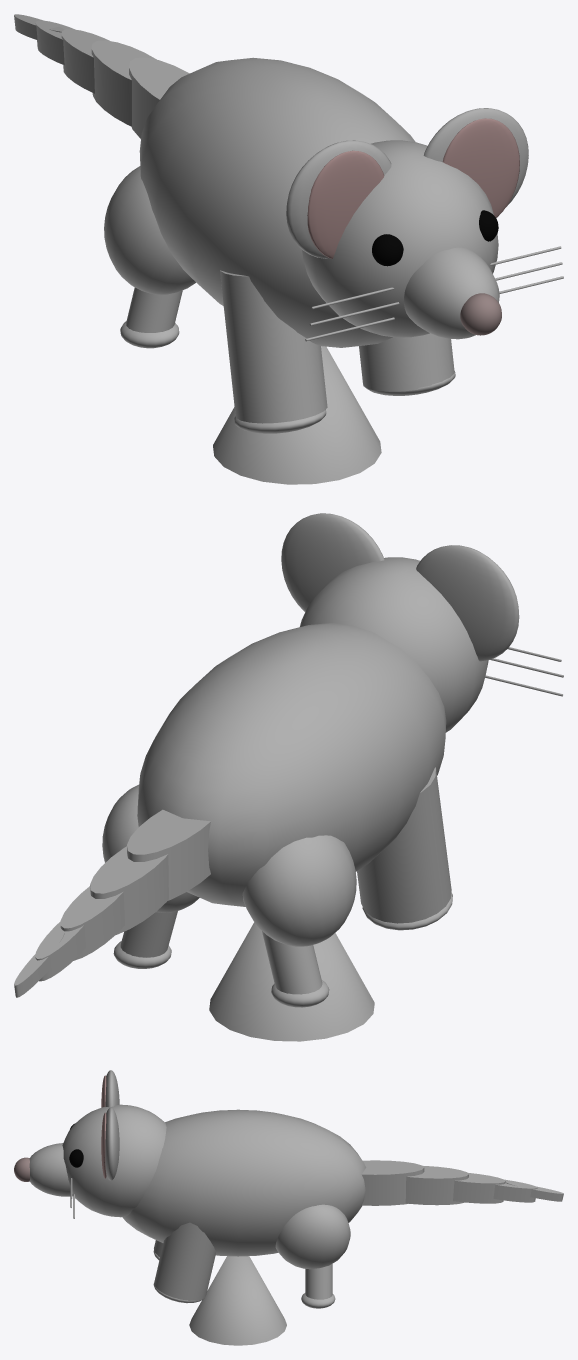
The model's file is ネズミ.fbx.
3 views of the same model, one above another, from view 1: azimuth 30°, elevation 25°; view 2: azimuth 150°, elevation 25°; view 3: azimuth 270°, elevation 25° (orthographic). The views are drawn at different scales.
Visible parts, largest first — view 1: karda, atama, asi1, pCone1, futomomo, hana, mimi3, asi, mimi2, mimi1, sippo1, sippo (+8 smaller); view 2: karda, atama, pCone1, futomomo, asi1, mimi1, mimi, sippo, sippo1, sippo2, asi2, pSphere12 (+6 smaller); view 3: karda, atama, pCone1, pSphere12, asi, sippo, sippo1, hana, sippo2, mimi, asi3, sippo3 (+2 smaller).
Boxes of the visible parts, box(x1,y1,x2,y2) form: karda: box(139, 57, 415, 347); atama: box(301, 140, 498, 337); asi1: box(220, 270, 327, 423); pCone1: box(213, 346, 381, 484); futomomo: box(104, 166, 195, 294); hana: box(403, 247, 499, 339); mimi3: box(307, 150, 384, 258); asi: box(359, 333, 454, 391); mimi2: box(442, 118, 519, 217); mimi1: box(286, 140, 391, 258); sippo1: box(91, 40, 156, 126); sippo: box(129, 57, 189, 138); karda: box(137, 622, 446, 906); atama: box(300, 557, 488, 732); pCone1: box(209, 922, 374, 1041); futomomo: box(242, 835, 356, 946); asi1: box(357, 767, 451, 923); mimi1: box(416, 545, 519, 661); mimi: box(281, 513, 384, 611); sippo: box(127, 809, 210, 900); sippo1: box(90, 846, 168, 934); sippo2: box(60, 886, 124, 960); asi2: box(262, 931, 322, 994); pSphere12: box(102, 784, 199, 912); karda: box(122, 1109, 366, 1256); atama: box(62, 1104, 166, 1217); pCone1: box(189, 1256, 286, 1345); pSphere12: box(275, 1204, 350, 1269); asi: box(154, 1222, 215, 1300); sippo: box(361, 1160, 424, 1205); sippo1: box(405, 1165, 468, 1205); hana: box(29, 1143, 72, 1196); sippo2: box(453, 1173, 505, 1203); mimi: box(105, 1107, 119, 1180); asi3: box(305, 1264, 332, 1299); sippo3: box(493, 1179, 537, 1202).
Size of the model in its own units: 3.5 by 5.25 by 11.24.
